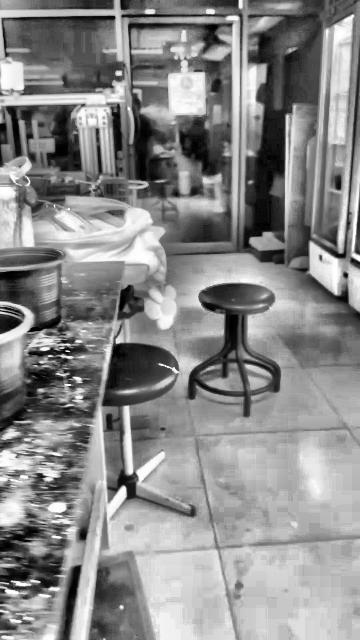pot: (0, 247, 65, 330), (0, 303, 32, 431)
